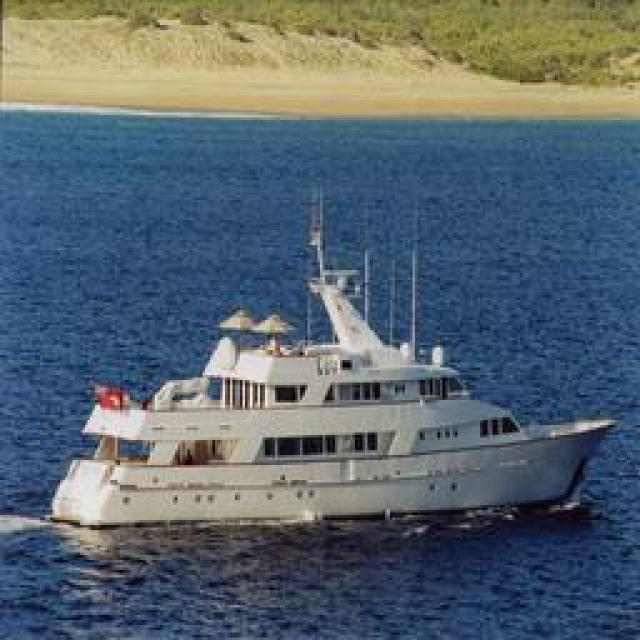Ship: (55, 256, 620, 526)
